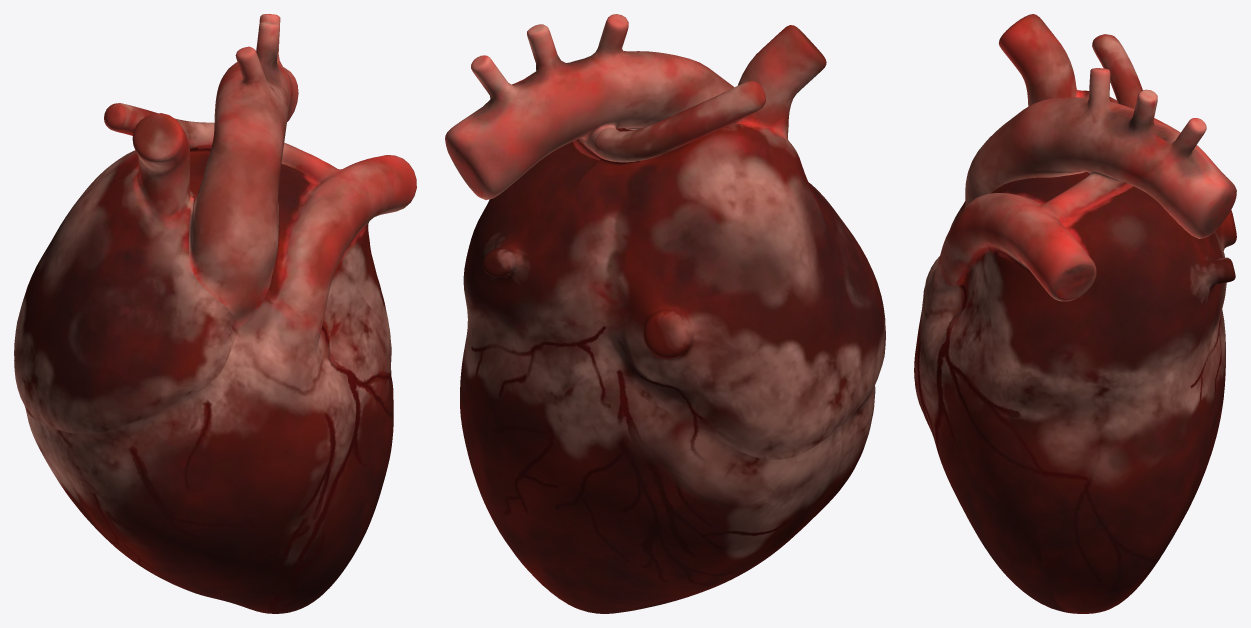
Rendered from human_heart.glb.
3 views of the same model, side by side, from view 1: azimuth 30°, elevation 25°; view 2: azimuth 150°, elevation 25°; view 3: azimuth 270°, elevation 25° (orthographic). The views are drawn at different scales.
Visible parts, largest first — view 1: hart:ZBrush_defualt_group_Heart Tex_0; view 2: hart:ZBrush_defualt_group_Heart Tex_0; view 3: hart:ZBrush_defualt_group_Heart Tex_0.
Boxes of the visible parts, x1,y1,x2,y2 form: hart:ZBrush_defualt_group_Heart Tex_0: [14, 14, 416, 613]; hart:ZBrush_defualt_group_Heart Tex_0: [445, 14, 885, 613]; hart:ZBrush_defualt_group_Heart Tex_0: [914, 14, 1236, 613].
Bounding box in the file's own units: 1.08 × 1.6 × 0.8802.
1 material, 1 textured.
